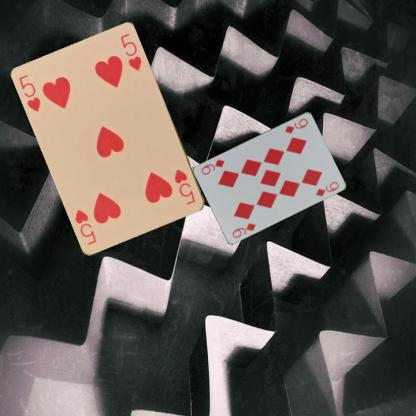5h: (16, 72, 42, 113), (172, 166, 197, 206)
9d: (230, 220, 257, 239), (282, 116, 309, 134)
